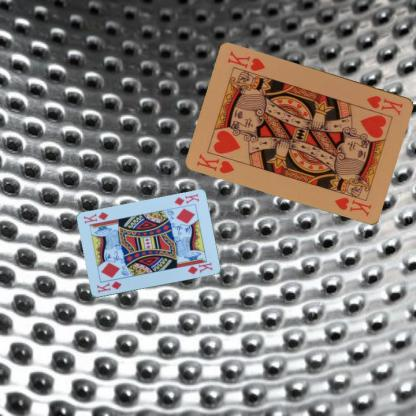Kd: (94, 278, 123, 295), (172, 191, 200, 207)
Kh: (194, 151, 236, 175), (364, 92, 404, 117)
